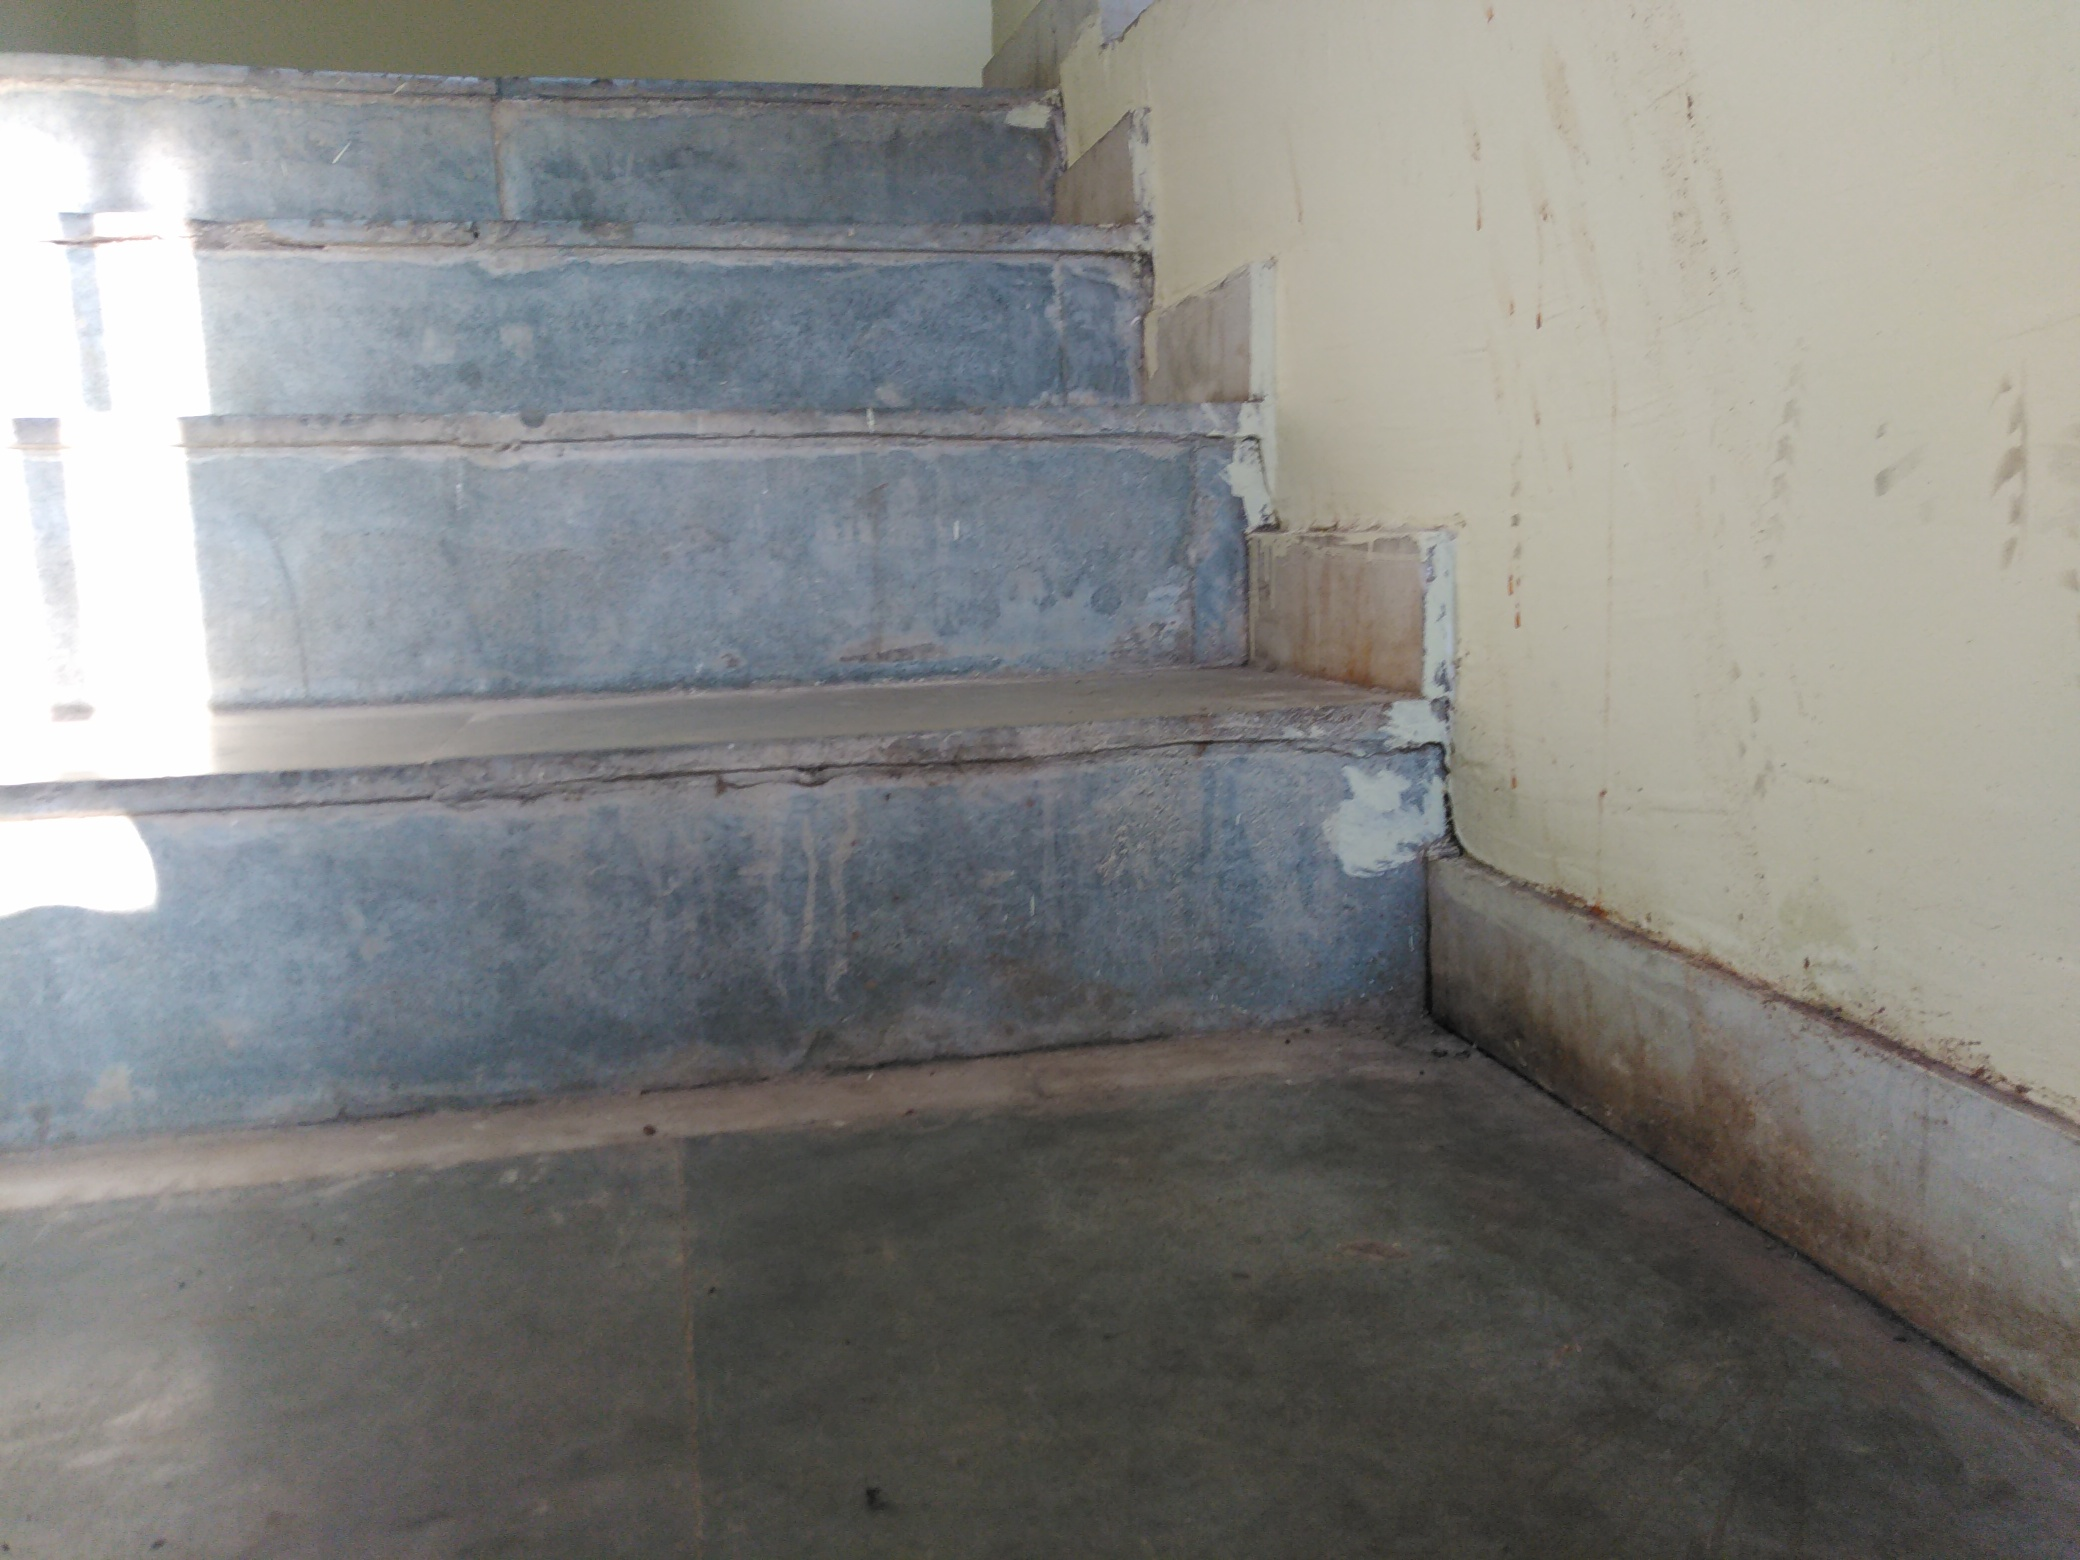stairs_up: (15, 44, 1464, 1165)
